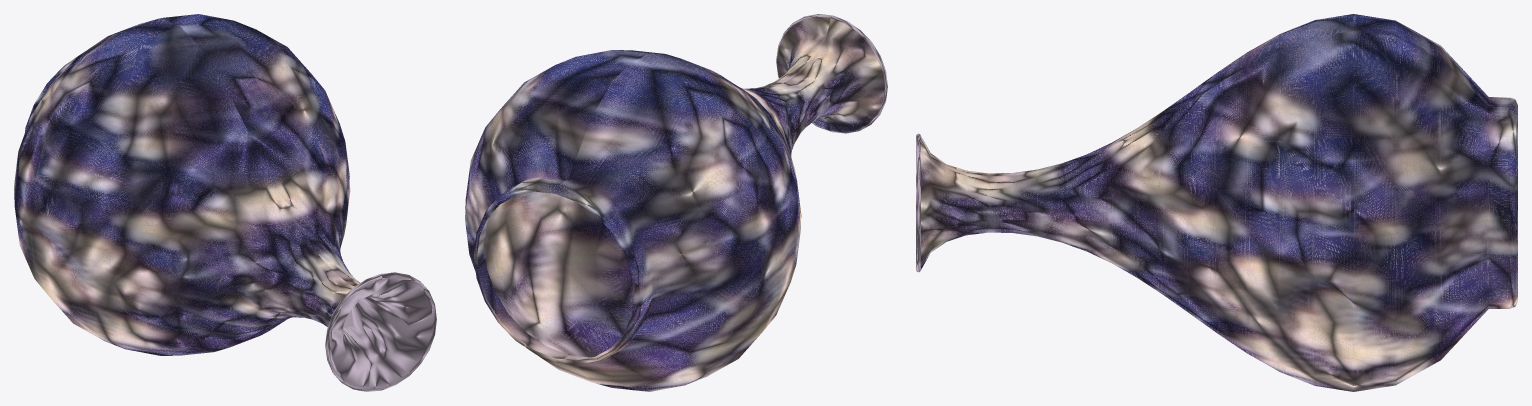
Rendered from model_align.obj.
3 renders of one model, left to right at view 1: azimuth 30°, elevation 25°; view 2: azimuth 150°, elevation 25°; view 3: azimuth 270°, elevation 25°, orthographic. The views are drawn at different scales.
Bounding box in the file's own units: 0.0697 × 0.0697 × 0.1106.
